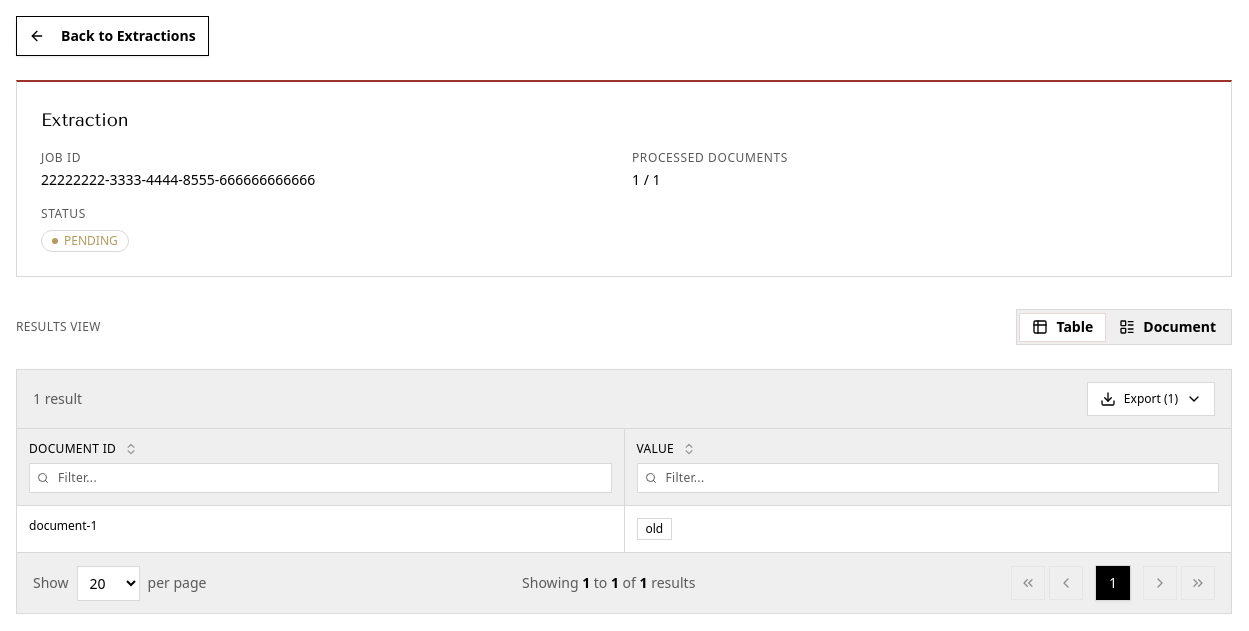
Test: ExtractionJobClient › derives the selected result from the latest poll response
The image size is (1249, 631).
Click the tab "Document" at [1168, 327], box [1106,312,1229,342]
Wait 3000 ms
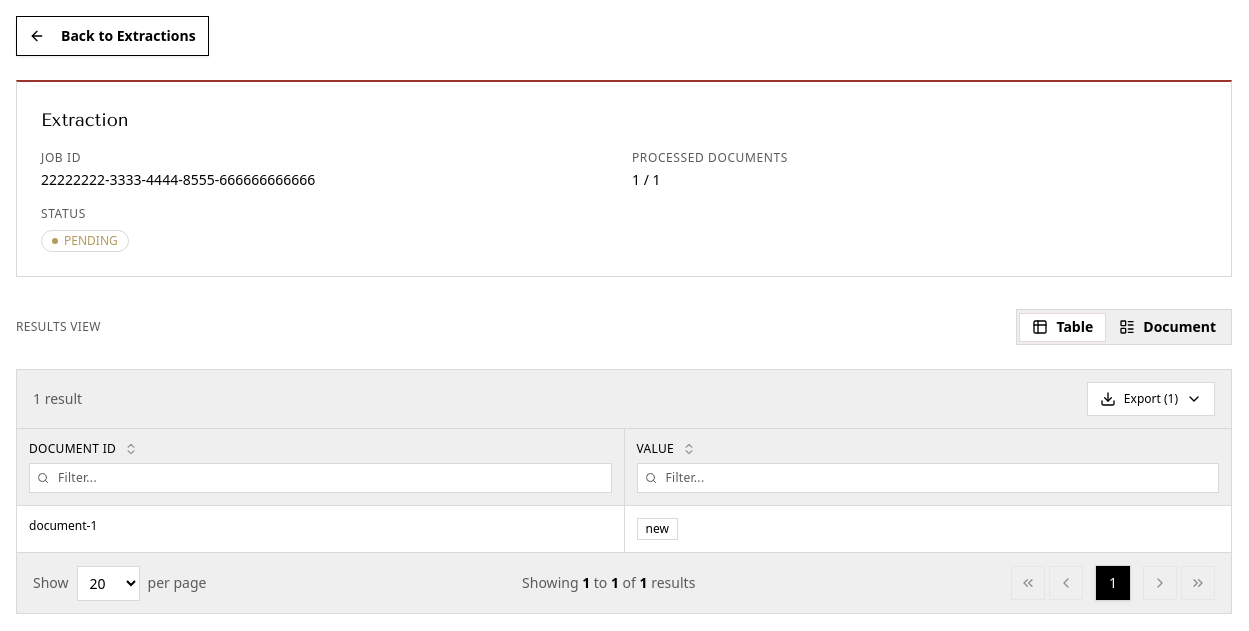
Result: the text "new" is shown at [636,518,678,540]
Result: the text "old" is gone
